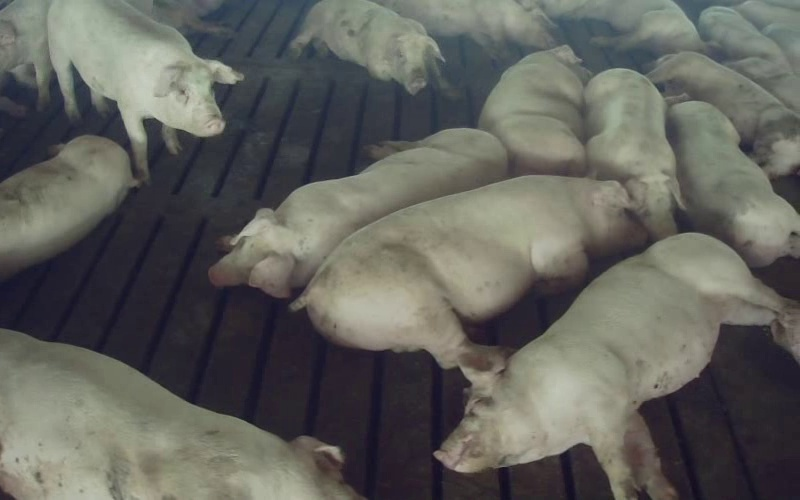pig: (436, 233, 799, 499), (293, 176, 646, 382), (209, 128, 505, 297), (47, 0, 242, 182), (667, 101, 799, 266), (0, 135, 137, 279), (647, 52, 799, 177), (584, 69, 682, 240), (478, 45, 590, 176), (290, 0, 442, 94), (377, 0, 555, 57), (570, 0, 705, 55)
